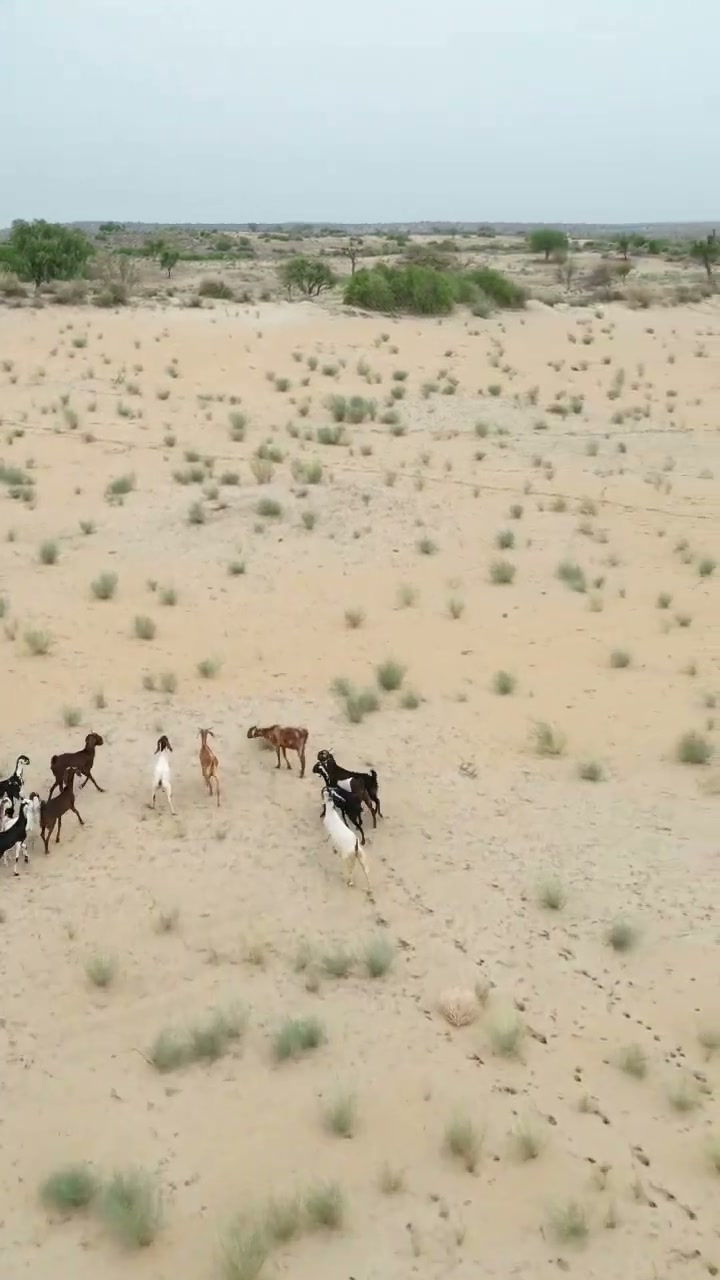animal_footprint: (333, 850, 709, 1256), (15, 804, 206, 977)
